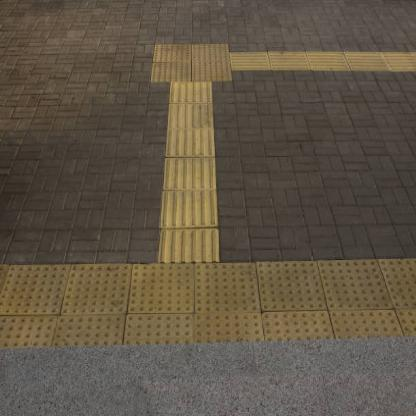podotacti: (1, 18, 416, 348)
